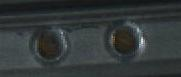joints: (29, 24, 69, 65), (107, 20, 145, 59)
